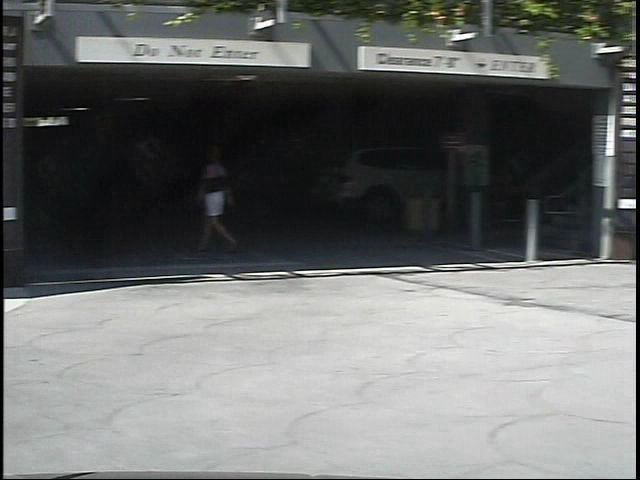person: (178, 142, 231, 260)
